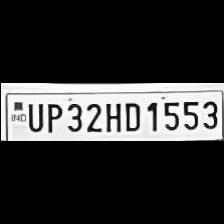1: (141, 99, 159, 134)
2: (82, 100, 102, 132)
3: (62, 99, 82, 133), (199, 97, 219, 130)
5: (158, 97, 180, 131), (180, 97, 198, 130)
D: (122, 99, 142, 133)
H: (102, 99, 120, 133)
P: (42, 100, 62, 134)
U: (24, 100, 42, 132)
